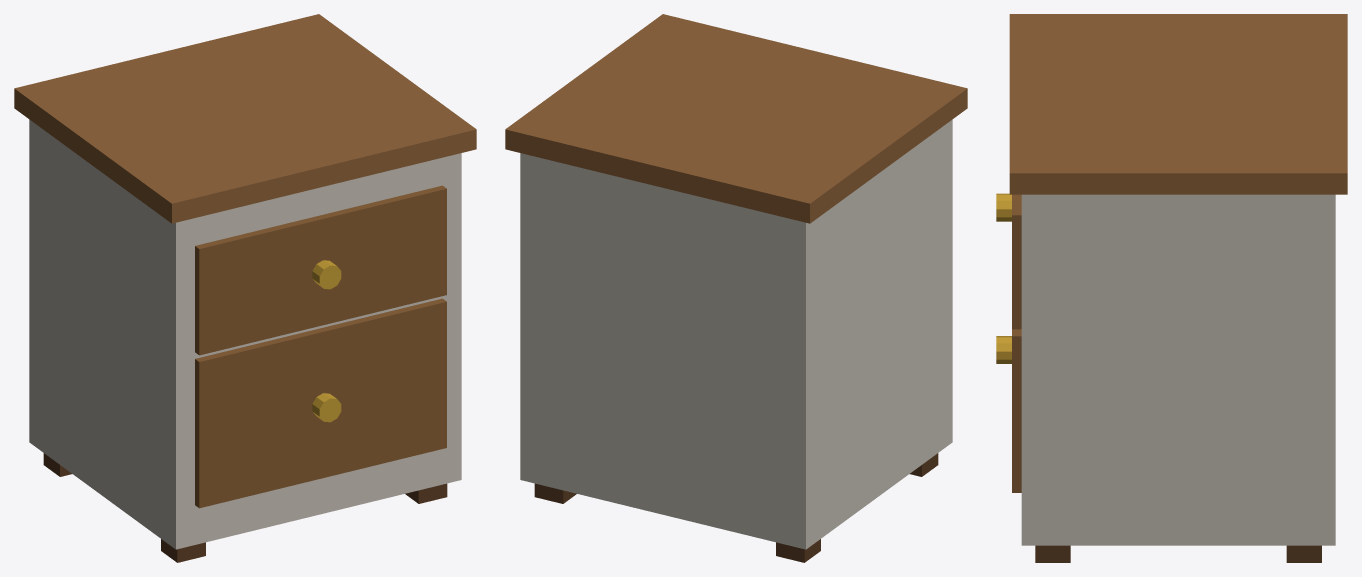
Rendered from nightstand.glb.
3 renders of one model, left to right at view 1: azimuth 30°, elevation 25°; view 2: azimuth 150°, elevation 25°; view 3: azimuth 270°, elevation 25°, orthographic. The views are drawn at different scales.
Parts seen in each view (by area): view 1: nightstand; view 2: nightstand; view 3: nightstand.
Part boxes in pixels (x1,y1,x2,y2): nightstand: (14,14,476,562); nightstand: (505,14,967,562); nightstand: (996,14,1347,562).
Size of the model in its own units: 0.48 by 0.56 by 0.447.
